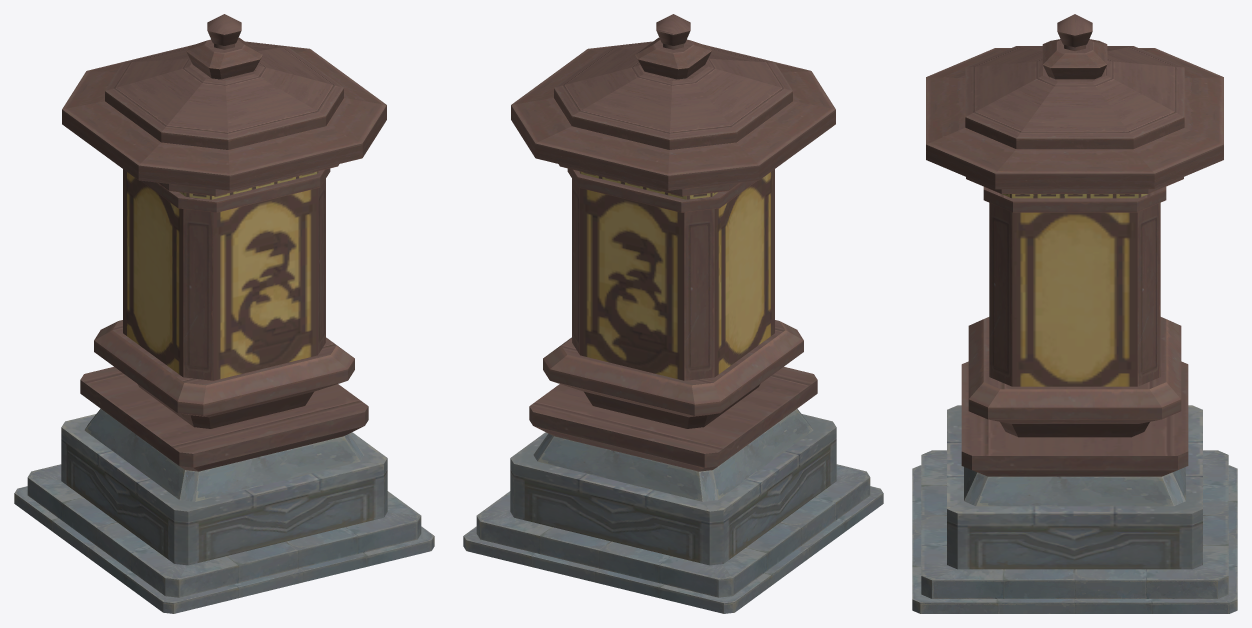
The model's file is Homeworld_Exterior_Ly_Lamp_Lamp_11_Vo.fbx.
3 renders of one model, left to right at view 1: azimuth 30°, elevation 25°; view 2: azimuth 150°, elevation 25°; view 3: azimuth 270°, elevation 25°, orthographic. The views are drawn at different scales.
Visible parts, largest first — view 1: Area_Ly_Light_LYG_Common_Lamp_04_Vo; view 2: Area_Ly_Light_LYG_Common_Lamp_04_Vo; view 3: Area_Ly_Light_LYG_Common_Lamp_04_Vo.
Part boxes in pixels (bbox=[...]): Area_Ly_Light_LYG_Common_Lamp_04_Vo: bbox=[14, 14, 434, 613]; Area_Ly_Light_LYG_Common_Lamp_04_Vo: bbox=[463, 14, 883, 613]; Area_Ly_Light_LYG_Common_Lamp_04_Vo: bbox=[912, 14, 1237, 613].
Size of the model in its own units: 0.7996 by 1.44 by 0.7996.
